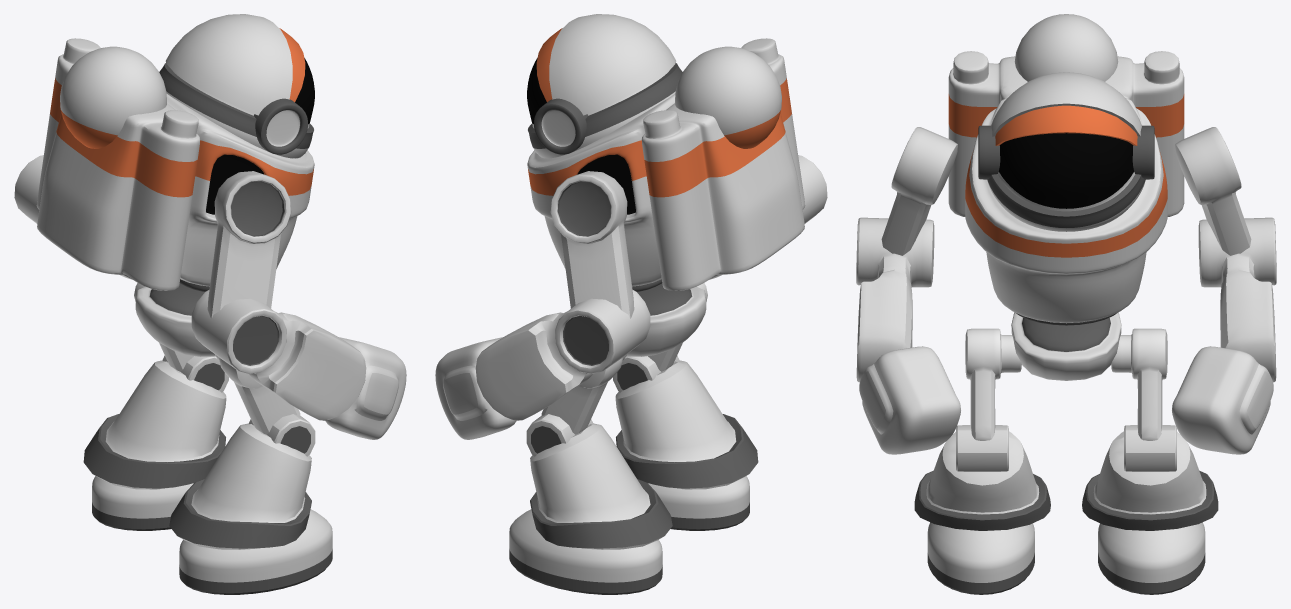
File: Astronaut.fbx
The picture shows the model from 3 angles, left to right: view 1: azimuth 30°, elevation 25°; view 2: azimuth 150°, elevation 25°; view 3: azimuth 270°, elevation 25°; orthographic projection. The views are drawn at different scales.
Visible parts, largest first — view 1: Torso, Leg2, Leg2.001, Arm2.right, Visor, Arm1.right, ConnectPoint, Foot, Hands, Helmet, Foot.001, Crotch (+5 smaller); view 2: Torso, Leg2.001, Leg2, Arm2.left, Visor, Arms1.left, ConnectPoint, Foot.001, Hands.001, Helmet, Foot, Crotch (+5 smaller); view 3: Torso, Helmet, Leg2, Leg2.001, Hands, Hands.001, Arm2.right, Arm2.left, Foot, Foot.001, Crotch, Arm1.right (+7 smaller).
Boxes of the visible parts, left/top/right/bottom form: Torso: left=36, top=38, right=314, bottom=291; Leg2: left=169, top=414, right=315, bottom=549; Leg2.001: left=83, top=355, right=228, bottom=489; Arm2.right: left=191, top=290, right=366, bottom=420; Visor: left=165, top=14, right=292, bottom=115; Arm1.right: left=207, top=171, right=291, bottom=318; ConnectPoint: left=60, top=46, right=166, bottom=148; Foot: left=179, top=509, right=332, bottom=594; Hands: left=325, top=337, right=406, bottom=439; Helmet: left=159, top=58, right=314, bottom=158; Foot.001: left=92, top=476, right=193, bottom=530; Crotch: left=135, top=283, right=215, bottom=356; Torso: left=527, top=38, right=805, bottom=291; Leg2.001: left=526, top=414, right=672, bottom=549; Leg2: left=613, top=355, right=758, bottom=489; Arm2.left: left=475, top=290, right=650, bottom=420; Visor: left=549, top=14, right=676, bottom=115; Arms1.left: left=550, top=171, right=634, bottom=318; ConnectPoint: left=675, top=46, right=781, bottom=148; Foot.001: left=509, top=509, right=662, bottom=594; Hands.001: left=435, top=337, right=516, bottom=439; Helmet: left=527, top=58, right=682, bottom=158; Foot: left=648, top=476, right=749, bottom=530; Crotch: left=626, top=283, right=706, bottom=356; Torso: left=948, top=51, right=1184, bottom=325; Helmet: left=987, top=133, right=1145, bottom=231; Leg2: left=914, top=425, right=1050, bottom=530; Leg2.001: left=1082, top=425, right=1218, bottom=530; Hands: left=859, top=346, right=960, bottom=454; Hands.001: left=1172, top=346, right=1273, bottom=454; Arm2.right: left=856, top=217, right=934, bottom=382; Arm2.left: left=1198, top=217, right=1276, bottom=382; Foot: left=927, top=522, right=1034, bottom=594; Foot.001: left=1098, top=522, right=1205, bottom=594; Crotch: left=1011, top=312, right=1121, bottom=380; Arm1.right: left=881, top=127, right=957, bottom=255.
Bounding box in the file's own units: 177 × 231 × 126.
